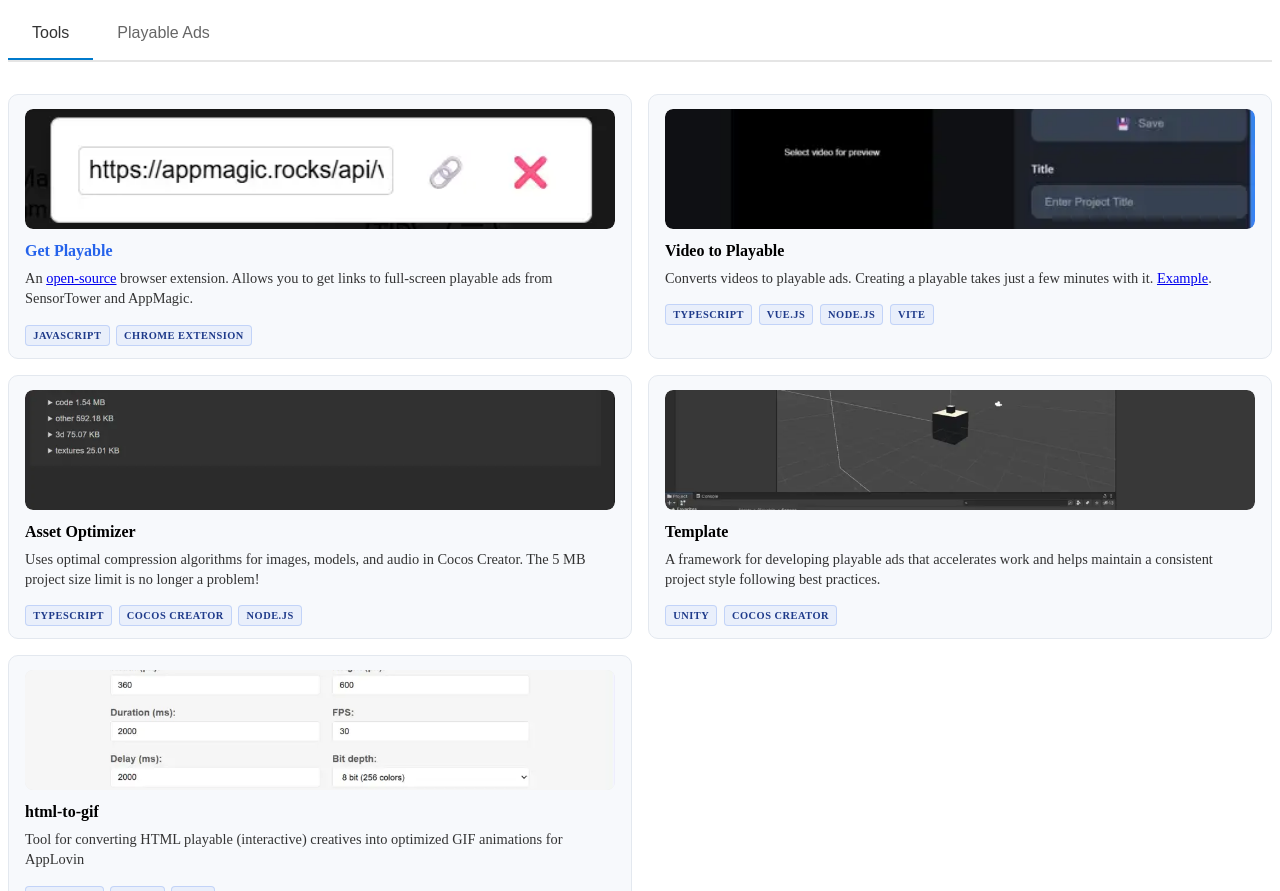
Test: TabsContainer › shows playables content when playables tab is active
Step 1. Click the button with class "tab-button" showing "Playable Ads" → point(164, 34), box [93,8,234,60]
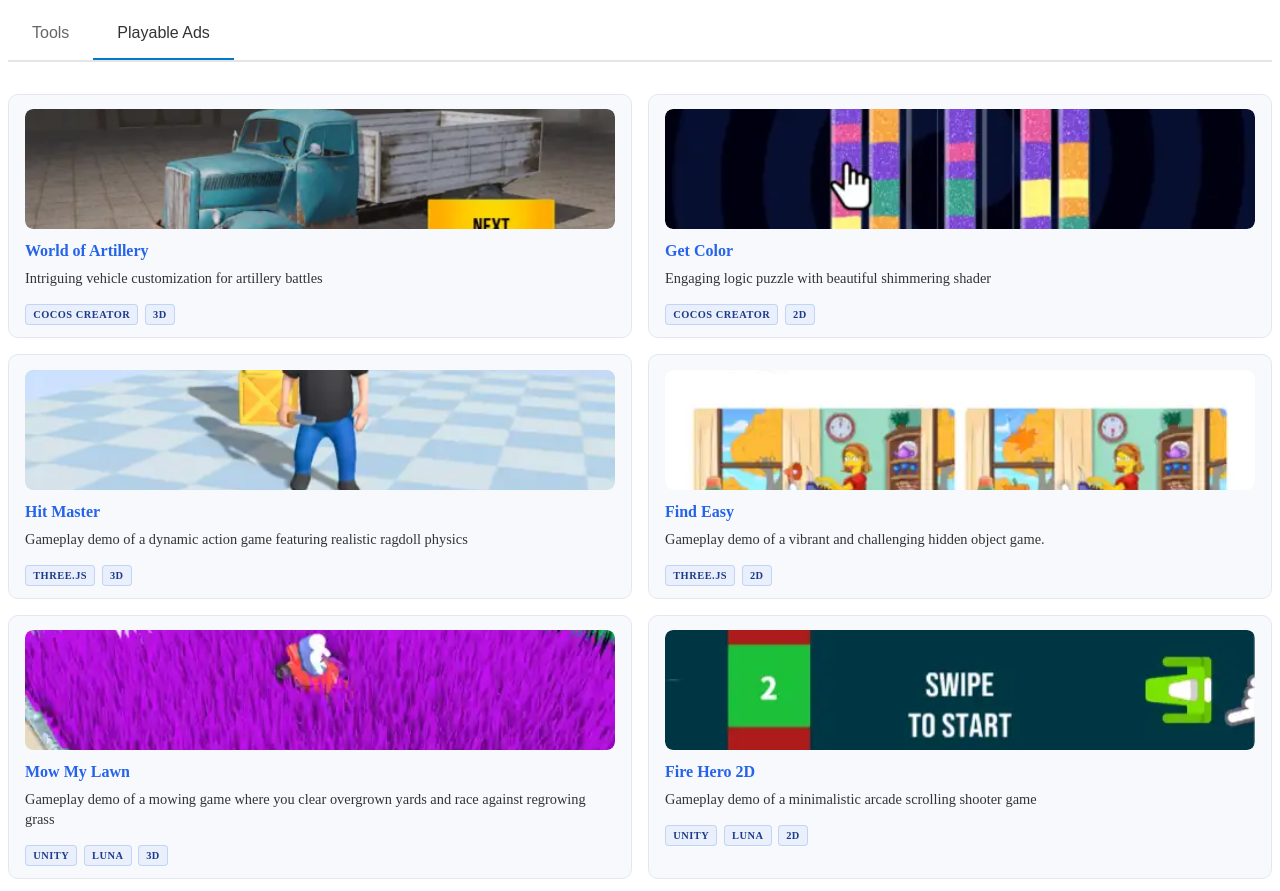
expect the element that starts with "World of Artillery" is shown: met
